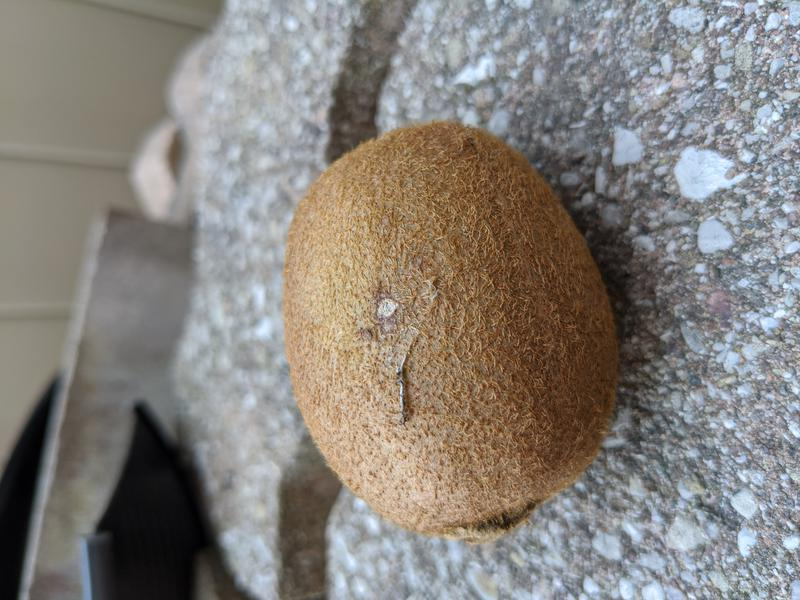kiwi: (281, 121, 620, 545)
